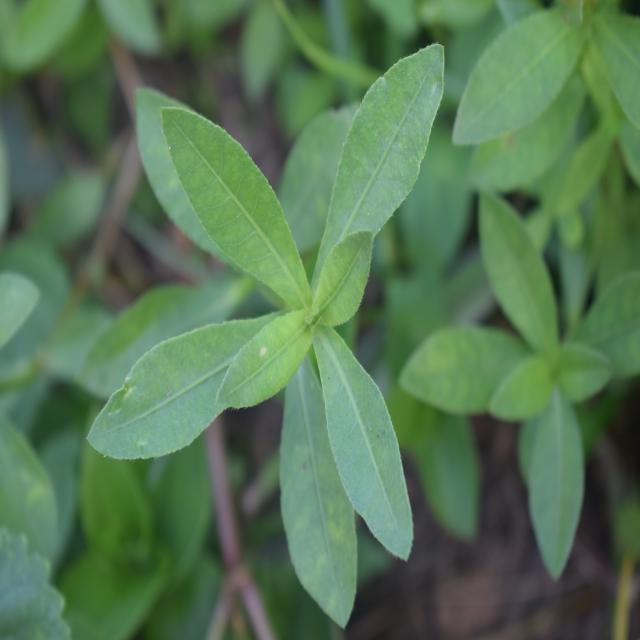Alligatorweed: (139, 30, 456, 590)
